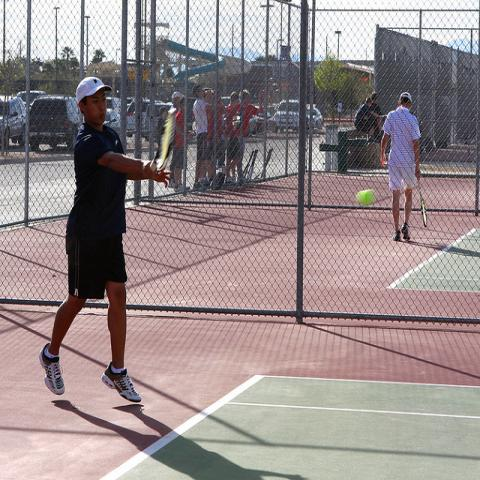car: (29, 96, 85, 155), (0, 96, 28, 149), (274, 100, 299, 133), (126, 100, 150, 132), (20, 91, 46, 114), (103, 97, 122, 128), (257, 112, 272, 128)
